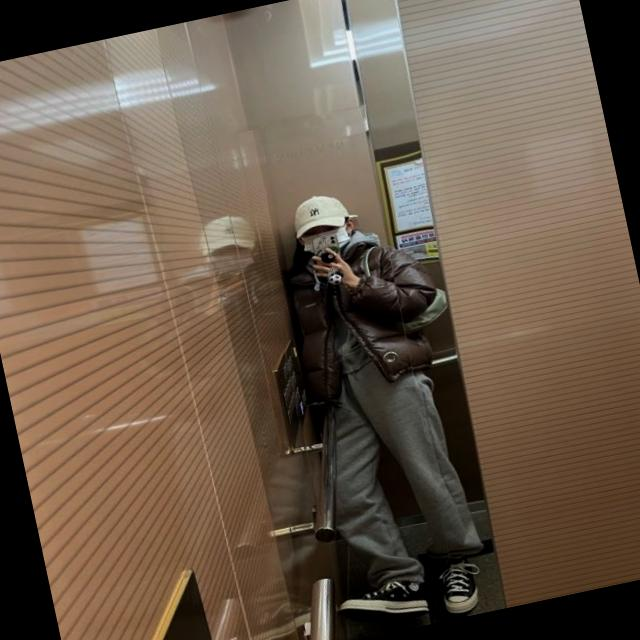padding: (280, 222, 450, 404)
trainingpants: (296, 336, 488, 592)
